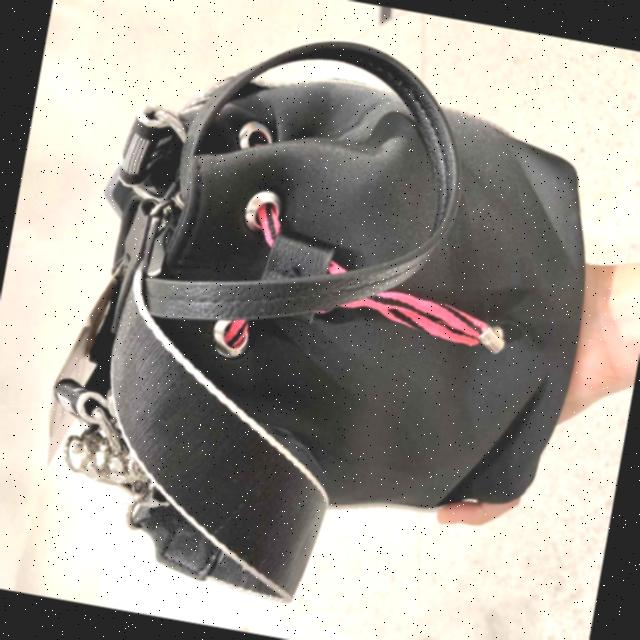Handbag: (2, 0, 619, 561)
